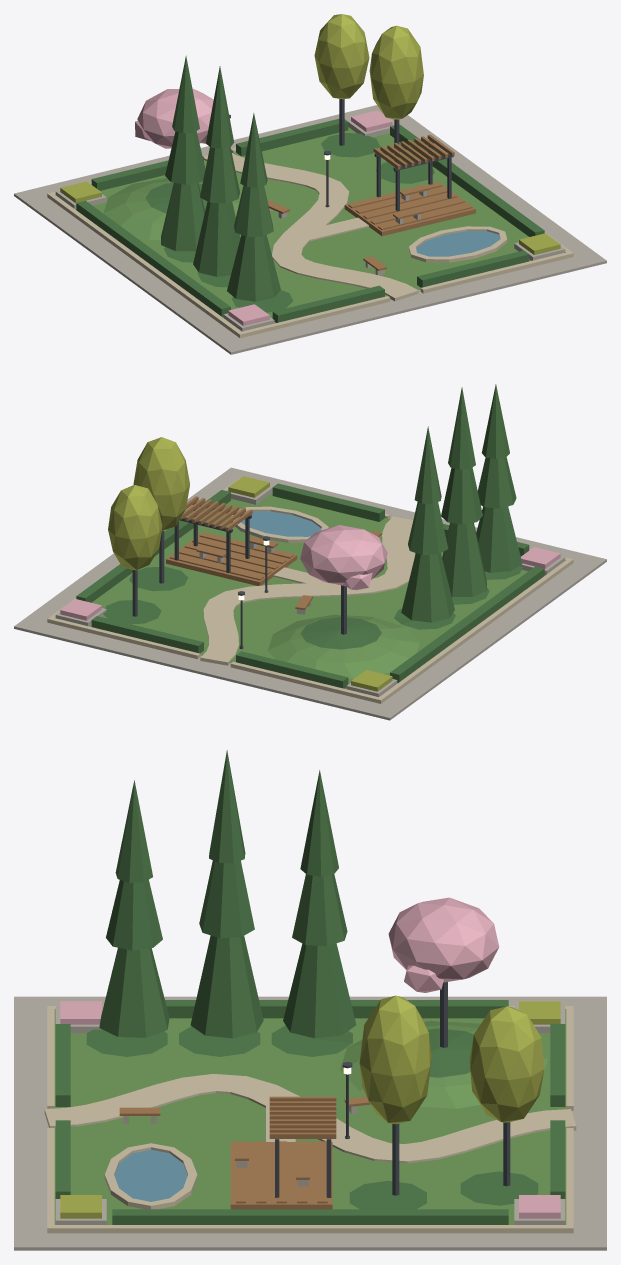
File: park.glb
3 renders of one model, top to bottom at view 1: azimuth 30°, elevation 25°; view 2: azimuth 150°, elevation 25°; view 3: azimuth 270°, elevation 25°, orthographic. The views are drawn at different scales.
Visible parts, largest first — view 1: Park_Evergreen, Park_Grass, Park_Paving, Park_PathStone, Park_Ginkgo, Park_Wood, Park_Blossom, Park_Steel, Park_Water; view 2: Park_Evergreen, Park_Grass, Park_Paving, Park_PathStone, Park_Ginkgo, Park_Wood, Park_Blossom, Park_Steel, Park_Water; view 3: Park_Evergreen, Park_Grass, Park_Paving, Park_PathStone, Park_Ginkgo, Park_Wood, Park_Blossom, Park_Water, Park_Steel.
Part boxes in pixels (box(x1,y1,x2,y2)): Park_Evergreen: box(76, 55, 544, 322); Park_Grass: box(93, 127, 530, 323); Park_Paving: box(14, 105, 606, 354); Park_PathStone: box(47, 112, 573, 338); Park_Ginkgo: box(60, 14, 560, 254); Park_Wood: box(267, 134, 475, 270); Park_Blossom: box(135, 88, 392, 325); Park_Steel: box(229, 99, 453, 211); Park_Water: box(416, 231, 499, 256); Park_Evergreen: box(76, 384, 544, 688); Park_Grass: box(90, 493, 544, 688); Park_Paving: box(14, 467, 606, 720); Park_PathStone: box(47, 478, 573, 703); Park_Ginkgo: box(108, 437, 392, 691); Park_Wood: box(166, 496, 382, 609); Park_Blossom: box(60, 525, 560, 620); Park_Steel: box(132, 502, 346, 649); Park_Water: box(238, 511, 321, 536); Park_Evergreen: box(55, 750, 565, 1224); Park_Grass: box(54, 1011, 566, 1224); Park_Paving: box(14, 996, 606, 1250); Park_PathStone: box(44, 1006, 576, 1233); Park_Ginkgo: box(60, 995, 560, 1218); Park_Wood: box(119, 1096, 370, 1209); Park_Blossom: box(60, 897, 560, 1218); Park_Water: box(114, 1149, 187, 1201); Park_Steel: box(275, 982, 510, 1197).
Size of the model in its own units: 3.2 by 1.76 by 3.2.
